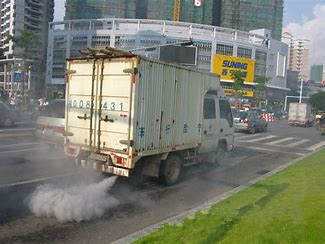smoke: (23, 175, 115, 224)
